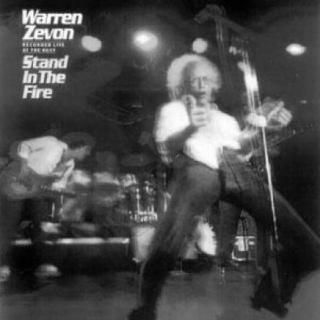other: (231, 58, 265, 98)
